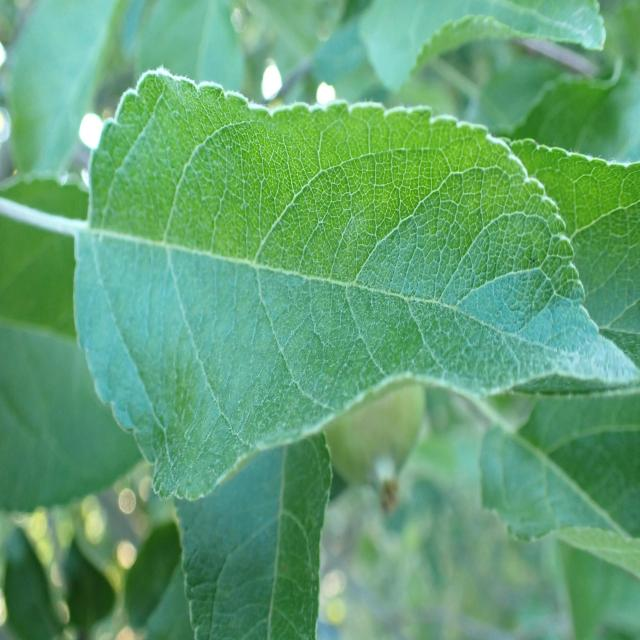healthy: (72, 65, 640, 502), (480, 137, 640, 582), (175, 428, 332, 640)
